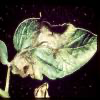Tomato leaf late blight: (11, 14, 98, 83)
